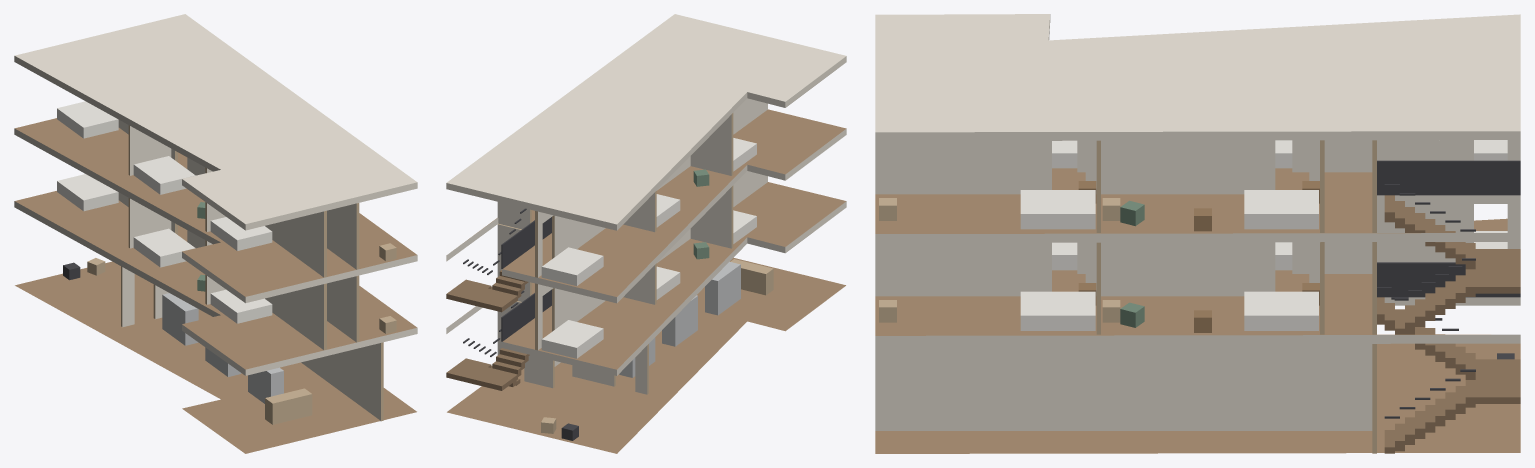
The model's file is interior.glb.
3 renders of one model, left to right at view 1: azimuth 30°, elevation 25°; view 2: azimuth 150°, elevation 25°; view 3: azimuth 270°, elevation 25°, orthographic. The views are drawn at different scales.
Parts seen in each view (by area): view 1: slabs, partitions, coarse-s1, coarse-s2, coarse-s0; view 2: slabs, partitions, stair, coarse-s0, coarse-s2, coarse-s1; view 3: slabs, partitions, stair, coarse-s2, coarse-s1.
Boxes of the visible parts, x1,y1,x2,y2 form: slabs: [14, 14, 417, 453]; partitions: [118, 120, 383, 421]; coarse-s1: [57, 174, 396, 333]; coarse-s2: [57, 101, 396, 261]; coarse-s0: [63, 258, 312, 424]; slabs: [446, 14, 846, 453]; partitions: [497, 98, 767, 394]; stair: [446, 208, 551, 390]; coarse-s0: [541, 259, 773, 440]; coarse-s2: [541, 138, 756, 285]; coarse-s1: [541, 210, 756, 358]; slabs: [875, 14, 1520, 453]; partitions: [875, 140, 1520, 453]; stair: [1377, 160, 1520, 453]; coarse-s2: [879, 140, 1507, 231]; coarse-s1: [879, 231, 1507, 332].
Bounding box in the file's own units: 7.48 × 9.5 × 17.24.
